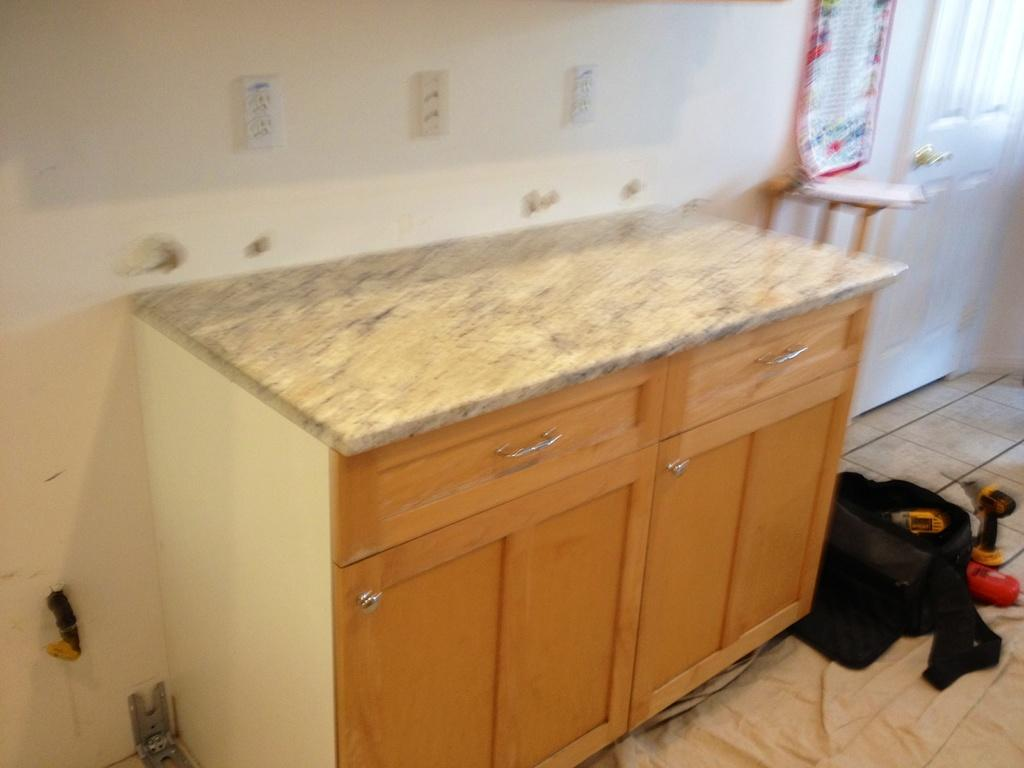cabinet_door: (348, 534, 610, 754), (673, 422, 812, 620), (370, 434, 642, 478), (690, 342, 856, 392)
handle: (496, 424, 558, 466), (751, 340, 811, 372), (668, 444, 694, 480), (360, 588, 386, 616)
